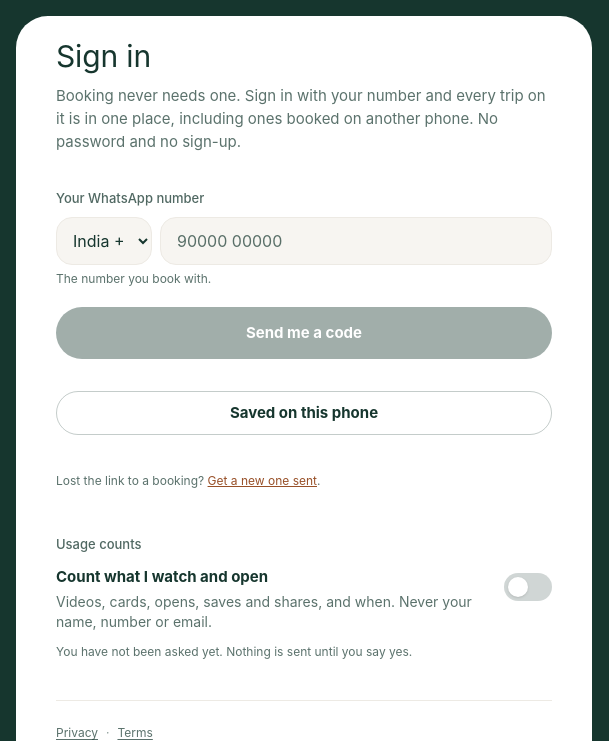
Test: the two ways out of the code step › Change number really gives the number back
Type "9000000000" into the field labelled "Your WhatsApp number" at (356, 241), box [160, 217, 552, 265]
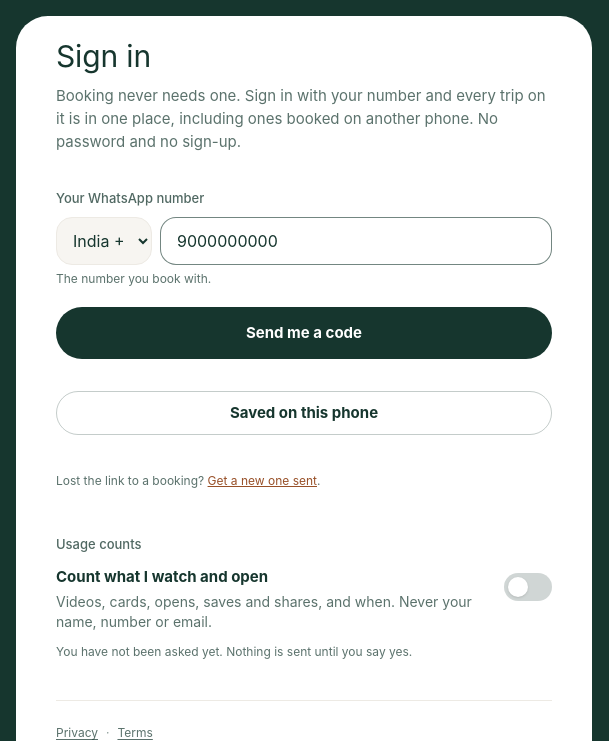
Click the button "Send me a code" at (304, 333), box [56, 307, 552, 359]
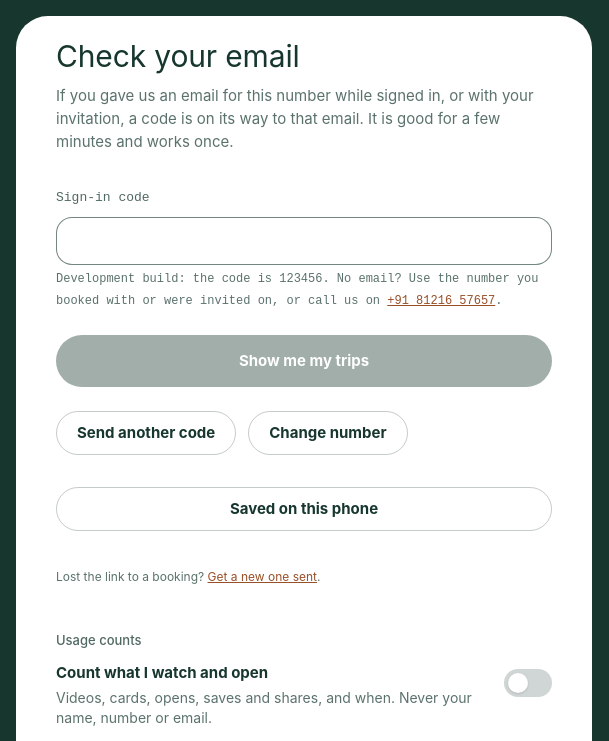
Result: the field labelled "Sign-in code" is shown at [56, 217, 552, 265]
Click the button "Change number" at (328, 433), box [248, 411, 408, 455]
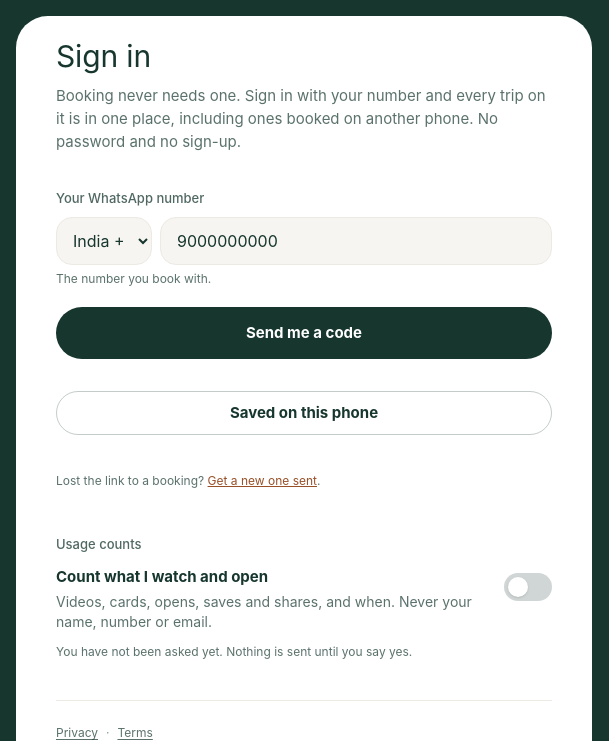
Result: the field labelled "Your WhatsApp number" is enabled at [160, 217, 552, 265]
Result: the field labelled "Your WhatsApp number" holds "9000000000" at [160, 217, 552, 265]
